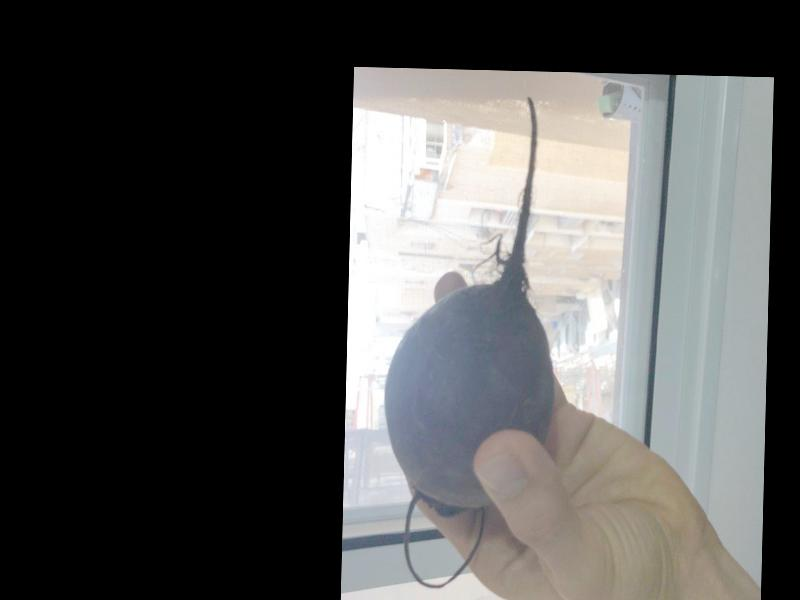Beet: (379, 91, 561, 589)
